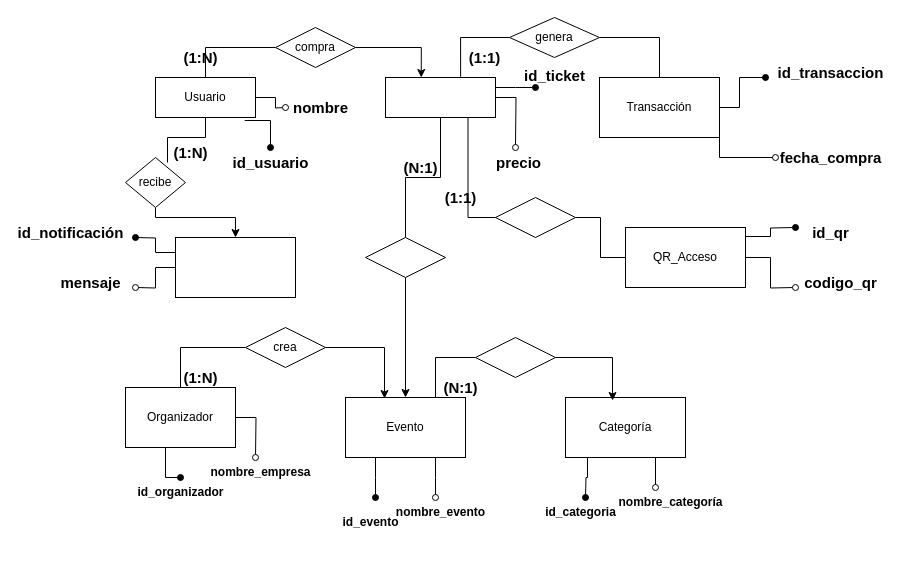
Image size: 900x563. Some labels were removed from this diagram. Here are the shapes that lost their labels. From the top down, the centre of each, then its label:
At pixel 440 97: "Ticket".
At pixel 535 217: "valida".
At pixel 235 267: "Notificación".
At pixel 405 257: "tiene".
At pixel 515 357: "clasifica".
